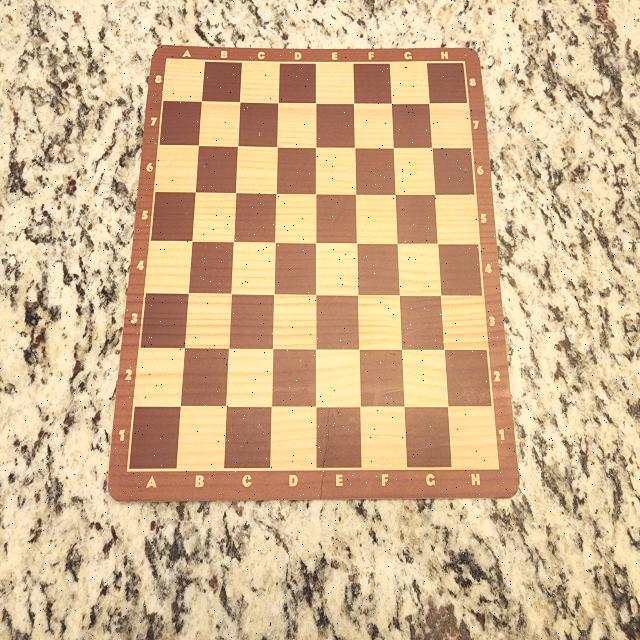Bottom-Left: (130, 407, 180, 472)
Bottom-Right: (449, 407, 499, 468)
Top-Left: (165, 59, 203, 98)
Top-Right: (427, 61, 468, 102)
